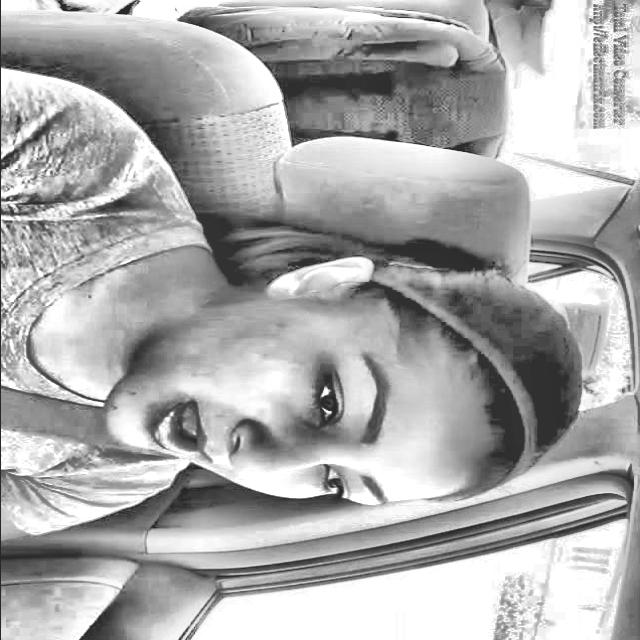open_eyes: (296, 356, 362, 441), (302, 453, 360, 512)
open_mouth: (130, 383, 217, 484)
